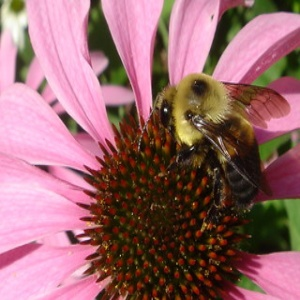bee: (147, 69, 293, 216)
